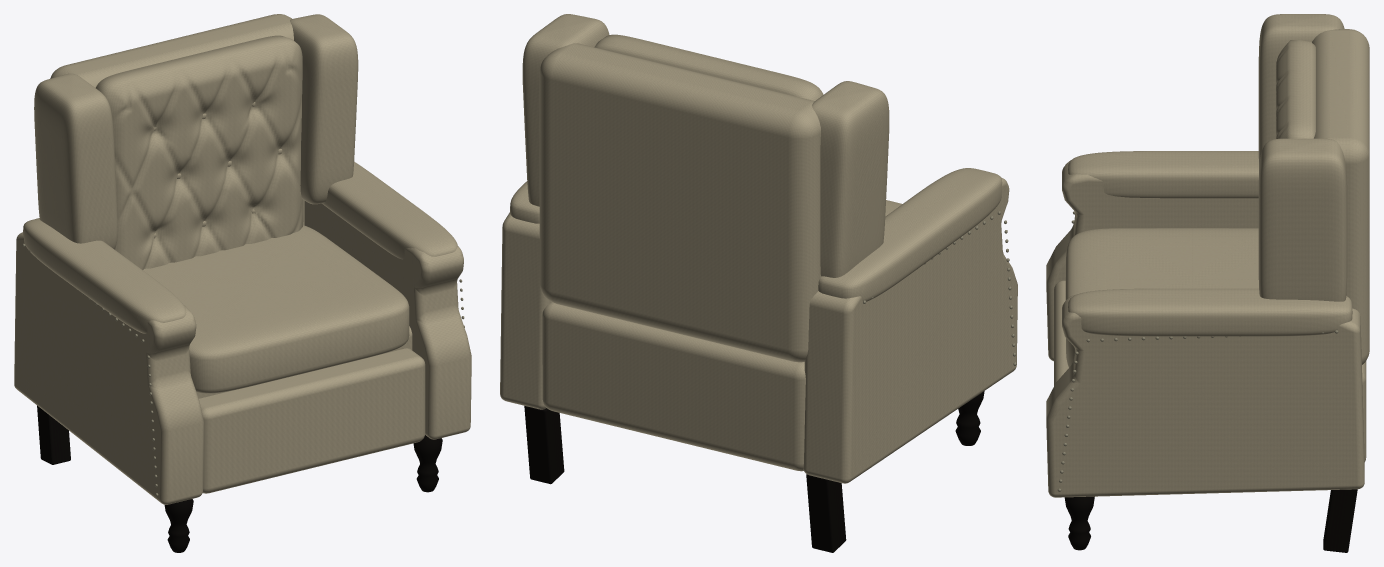
Rendered from christopher-knight-elizabeth-recliner.glb.
3 renders of one model, left to right at view 1: azimuth 30°, elevation 25°; view 2: azimuth 150°, elevation 25°; view 3: azimuth 270°, elevation 25°, orthographic. The views are drawn at different scales.
Parts seen in each view (by area): view 1: Diamond tufted high back, Shaped rolled upholstered arm, Deep seat cushion, Closed footrest upholstered front, Shaped rolled upholstered arm.001, Padded wing -1, Padded wing 1, Rounded arm top, Rounded arm top.001, Rear upholstered back shell, Rear tapered dark leg, Turned front birch foot.001 (+1 smaller); view 2: Rear upholstered back shell, Shaped rolled upholstered arm, Lower seat foundation, Padded wing -1, Rounded arm top, Shaped rolled upholstered arm.001, Padded wing 1, Diamond tufted high back, Rear tapered dark leg.001, Rear tapered dark leg, Turned front birch foot, Rounded arm top.001; view 3: Shaped rolled upholstered arm.001, Padded wing 1, Rounded arm top.001, Deep seat cushion, Rear upholstered back shell, Shaped rolled upholstered arm, Rounded arm top, Padded wing -1, Diamond tufted high back, Rear tapered dark leg.001, Turned front birch foot.001, Closed footrest upholstered front.
Part boxes in pixels (left/top/right/bottom): Diamond tufted high back: left=96, top=35, right=303, bottom=269; Shaped rolled upholstered arm: left=14, top=232, right=203, bottom=504; Deep seat cushion: left=143, top=225, right=409, bottom=393; Closed footrest upholstered front: left=199, top=348, right=425, bottom=493; Shaped rolled upholstered arm.001: left=304, top=201, right=471, bottom=439; Padded wing -1: left=34, top=73, right=117, bottom=249; Padded wing 1: left=290, top=14, right=358, bottom=204; Rounded arm top: left=23, top=218, right=186, bottom=333; Rounded arm top.001: left=322, top=162, right=457, bottom=259; Rear upholstered back shell: left=50, top=14, right=304, bottom=225; Rear tapered dark leg: left=37, top=405, right=70, bottom=464; Turned front birch foot.001: left=413, top=435, right=442, bottom=492; Rear upholstered back shell: left=539, top=43, right=820, bottom=362; Shaped rolled upholstered arm: left=803, top=178, right=1017, bottom=483; Lower seat foundation: left=542, top=302, right=805, bottom=471; Padded wing -1: left=812, top=81, right=889, bottom=277; Rounded arm top: left=818, top=168, right=1002, bottom=301; Shaped rolled upholstered arm.001: left=500, top=212, right=550, bottom=409; Padded wing 1: left=522, top=14, right=609, bottom=206; Diamond tufted high back: left=594, top=34, right=823, bottom=100; Rear tapered dark leg.001: left=524, top=406, right=564, bottom=484; Rear tapered dark leg: left=806, top=474, right=846, bottom=552; Turned front birch foot: left=955, top=391, right=984, bottom=445; Rounded arm top.001: left=510, top=181, right=539, bottom=223; Shaped rolled upholstered arm.001: left=1046, top=294, right=1364, bottom=497; Padded wing 1: left=1258, top=138, right=1347, bottom=301; Rounded arm top.001: left=1068, top=288, right=1352, bottom=336; Deep seat cushion: left=1065, top=228, right=1258, bottom=367; Rear upholstered back shell: left=1312, top=29, right=1369, bottom=364; Shaped rolled upholstered arm: left=1046, top=160, right=1258, bottom=361; Rounded arm top: left=1068, top=151, right=1258, bottom=198; Padded wing -1: left=1258, top=14, right=1344, bottom=169; Diamond tufted high back: left=1276, top=40, right=1315, bottom=138; Rear tapered dark leg.001: left=1323, top=489, right=1357, bottom=552; Turned front birch foot.001: left=1064, top=496, right=1094, bottom=550; Closed footrest upholstered front: left=1054, top=280, right=1068, bottom=385.
Size of the model in its own units: 0.889 by 1.03 by 0.7493.
4 materials, 2 textured.
